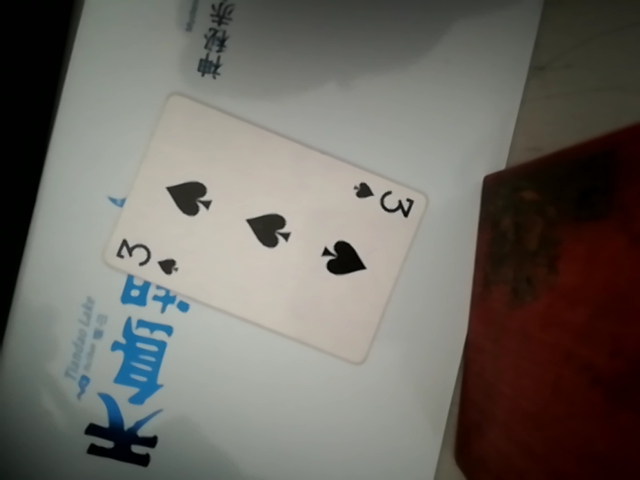ht 3: (112, 97, 423, 365)
